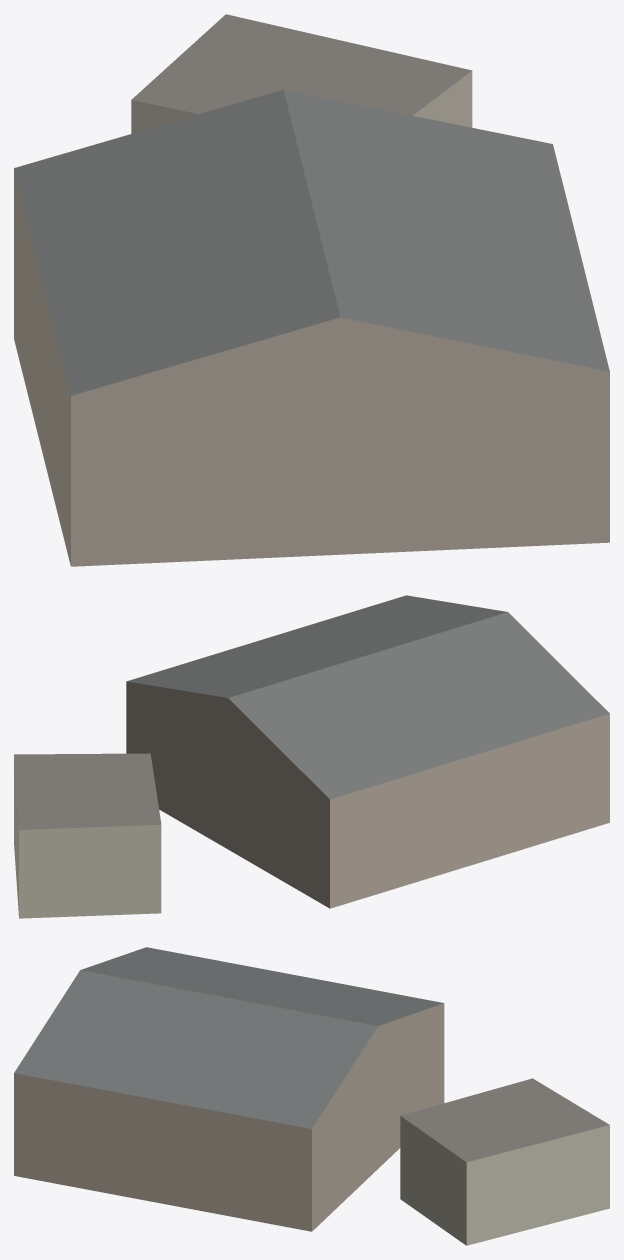
The model's file is 1634d79eba2e-chunk-1195_11838.glb.
3 renders of one model, top to bottom at view 1: azimuth 30°, elevation 25°; view 2: azimuth 150°, elevation 25°; view 3: azimuth 270°, elevation 25°, orthographic. The views are drawn at different scales.
Visible parts, largest first — view 1: building_151349, building_42432; view 2: building_151349, building_42432; view 3: building_151349, building_42432.
Part boxes in pixels (x1,y1,x2,y2): building_151349: (14,89,609,566); building_42432: (131,14,472,133); building_151349: (126,595,609,908); building_42432: (14,753,161,918); building_151349: (14,947,444,1231); building_42432: (400,1078,609,1245).
Bounding box in the file's own units: 18.91 × 6.43 × 24.31.
